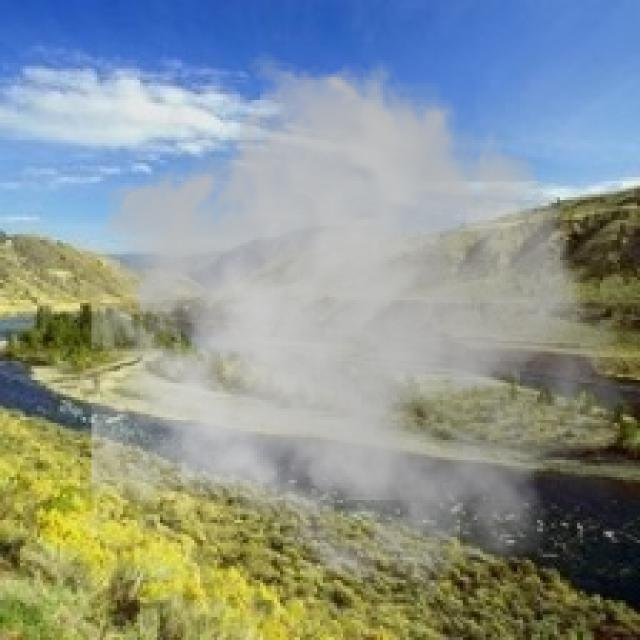smoke: (91, 48, 626, 603)
